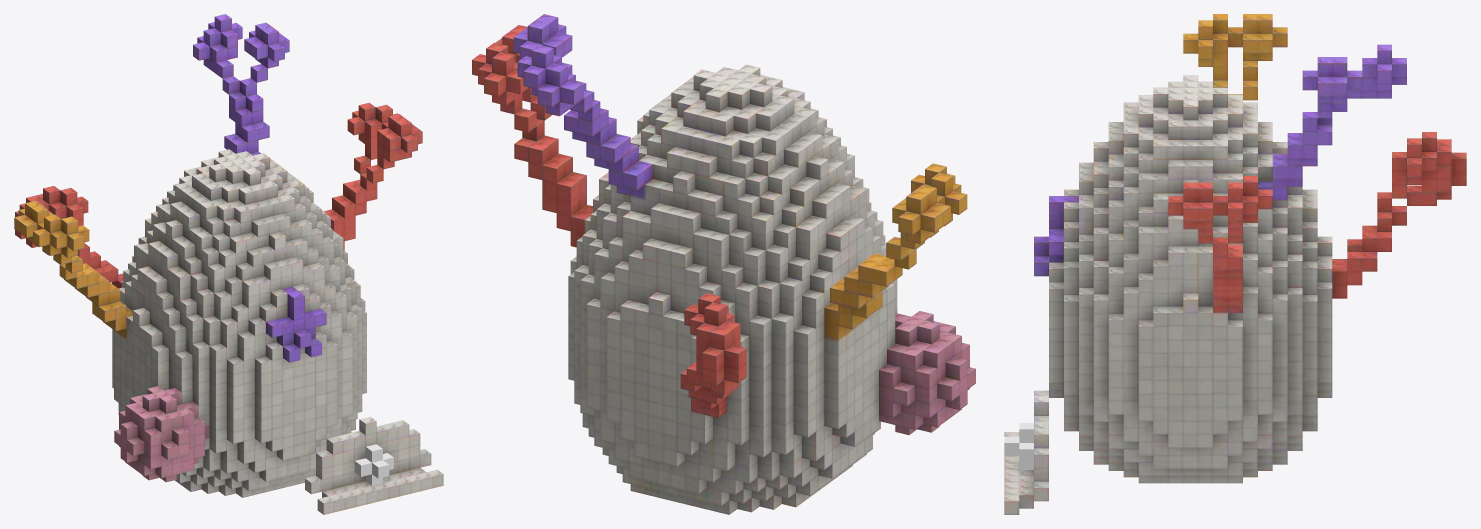
File: coral-reef.glb
3 views of the same model, side by side, from view 1: azimuth 30°, elevation 25°; view 2: azimuth 150°, elevation 25°; view 3: azimuth 270°, elevation 25° (orthographic). The views are drawn at different scales.
Parts seen in each view (by area): view 1: Body.004, Glow.001; view 2: Body.004; view 3: Body.004, Glow.001.
Boxes of the visible parts, box(x1,y1,x2,y2) form: Body.004: box(14, 14, 443, 514); Glow.001: box(355, 444, 393, 485); Body.004: box(472, 14, 975, 514); Body.004: box(1004, 14, 1466, 514); Glow.001: box(1004, 423, 1033, 469).
Size of the model in its own units: 5.1 by 4.8 by 4.65.
Materials: 2 (1 with a texture image).
